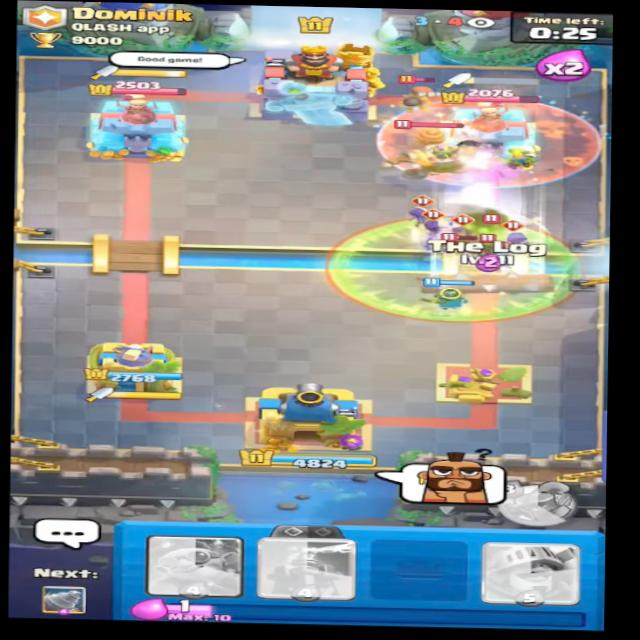bomber: (388, 68, 439, 109)
evo-skeleton: (403, 199, 444, 227), (419, 212, 456, 242), (503, 222, 532, 248)
goblin-curse: (321, 218, 581, 325)
goblin-machine: (384, 121, 481, 183)
